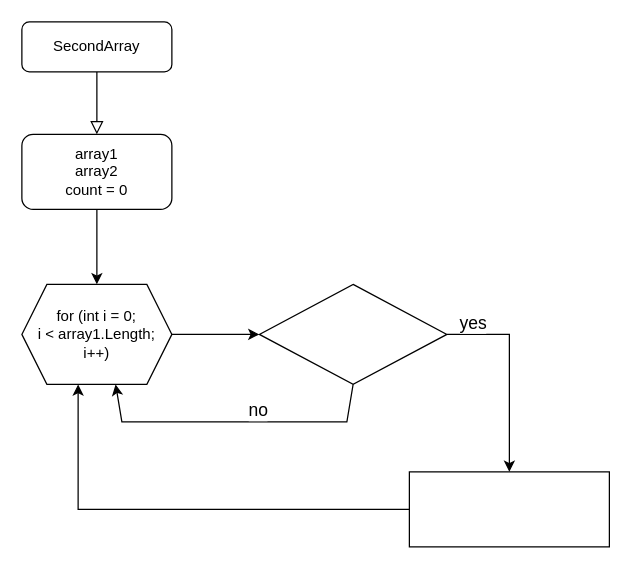
Image size: 631x569. Some labels were removed from this diagram. The centre of each missing label's shape, as x and y in pixels:
"array2[count] = array1[i]; count++;" belongs at point (508, 509).
"if (array1[i].Length <= 3)" belongs at point (352, 333).
